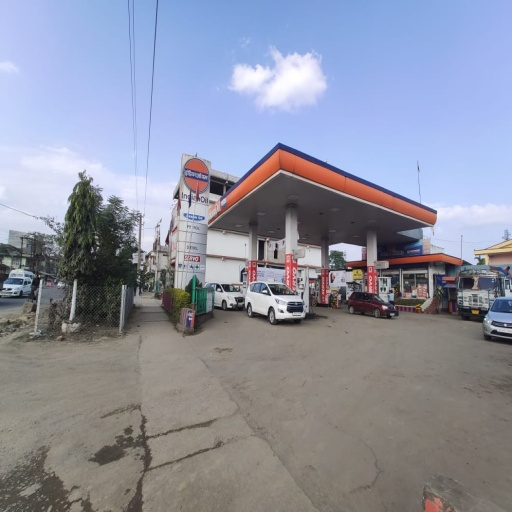roof: (204, 140, 440, 256)
